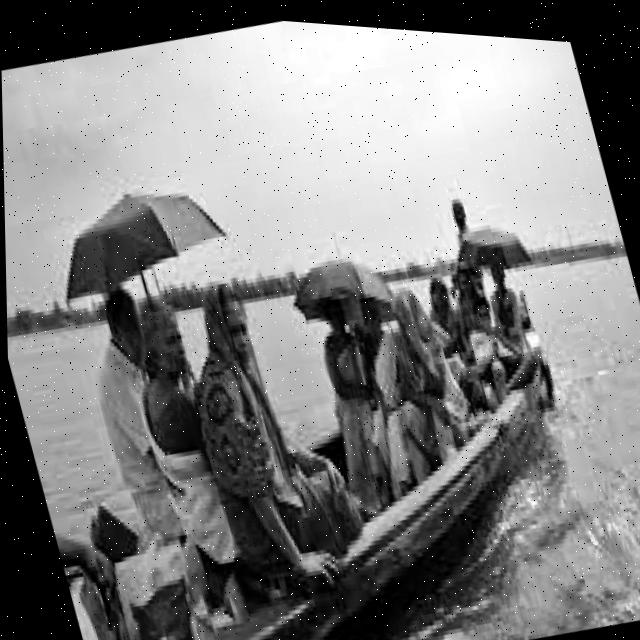civilian: (174, 259, 362, 601), (117, 286, 259, 594), (66, 283, 202, 563), (301, 285, 430, 530), (337, 289, 439, 502), (378, 281, 478, 483), (414, 267, 495, 421), (481, 252, 546, 381), (458, 291, 527, 412), (444, 255, 487, 329), (441, 189, 488, 255)
